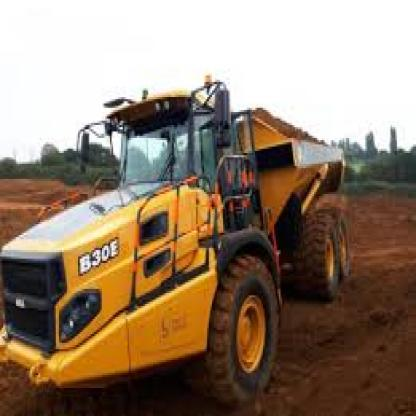dump_truck: (3, 56, 391, 405)
